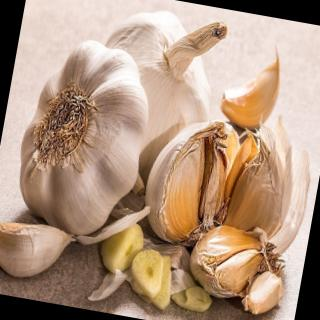Bawang Putih: (8, 30, 168, 247)
